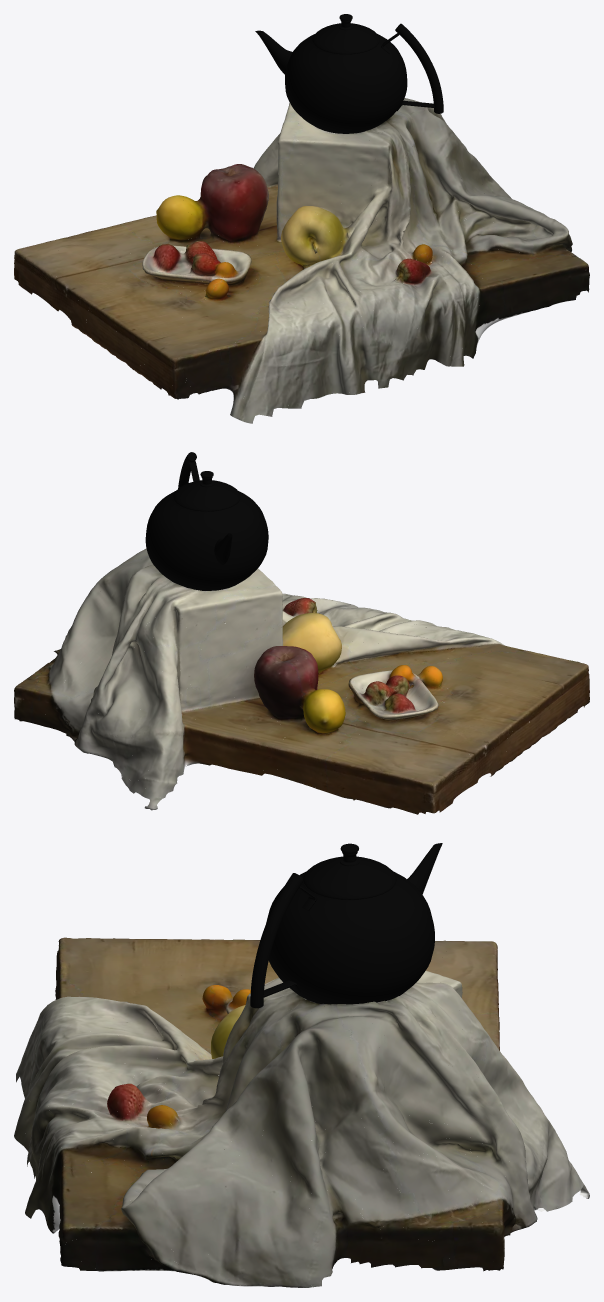
The model's file is 静物_其它_陶罐水果组合05_opt.glb.
3 views of the same model, one above another, from view 1: azimuth 30°, elevation 25°; view 2: azimuth 150°, elevation 25°; view 3: azimuth 270°, elevation 25° (orthographic). The views are drawn at different scales.
Visible parts, largest first — view 1: surfaceShader1SG, initialShadingGroup, surfaceShader1SG_1; view 2: surfaceShader1SG, initialShadingGroup, surfaceShader1SG_1; view 3: surfaceShader1SG, initialShadingGroup, surfaceShader1SG_1.
Part boxes in pixels (bbox=[...]): surfaceShader1SG: bbox=[14, 98, 589, 423]; initialShadingGroup: bbox=[255, 14, 443, 133]; surfaceShader1SG_1: bbox=[19, 100, 586, 423]; surfaceShader1SG: bbox=[14, 548, 589, 814]; initialShadingGroup: bbox=[145, 452, 268, 590]; surfaceShader1SG_1: bbox=[14, 549, 588, 811]; surfaceShader1SG: bbox=[14, 937, 589, 1287]; initialShadingGroup: bbox=[250, 843, 442, 1008]; surfaceShader1SG_1: bbox=[23, 939, 586, 1287].
Size of the model in its own units: 1.03 by 0.6 by 0.8397.
Materials: 2 (1 with a texture image).
